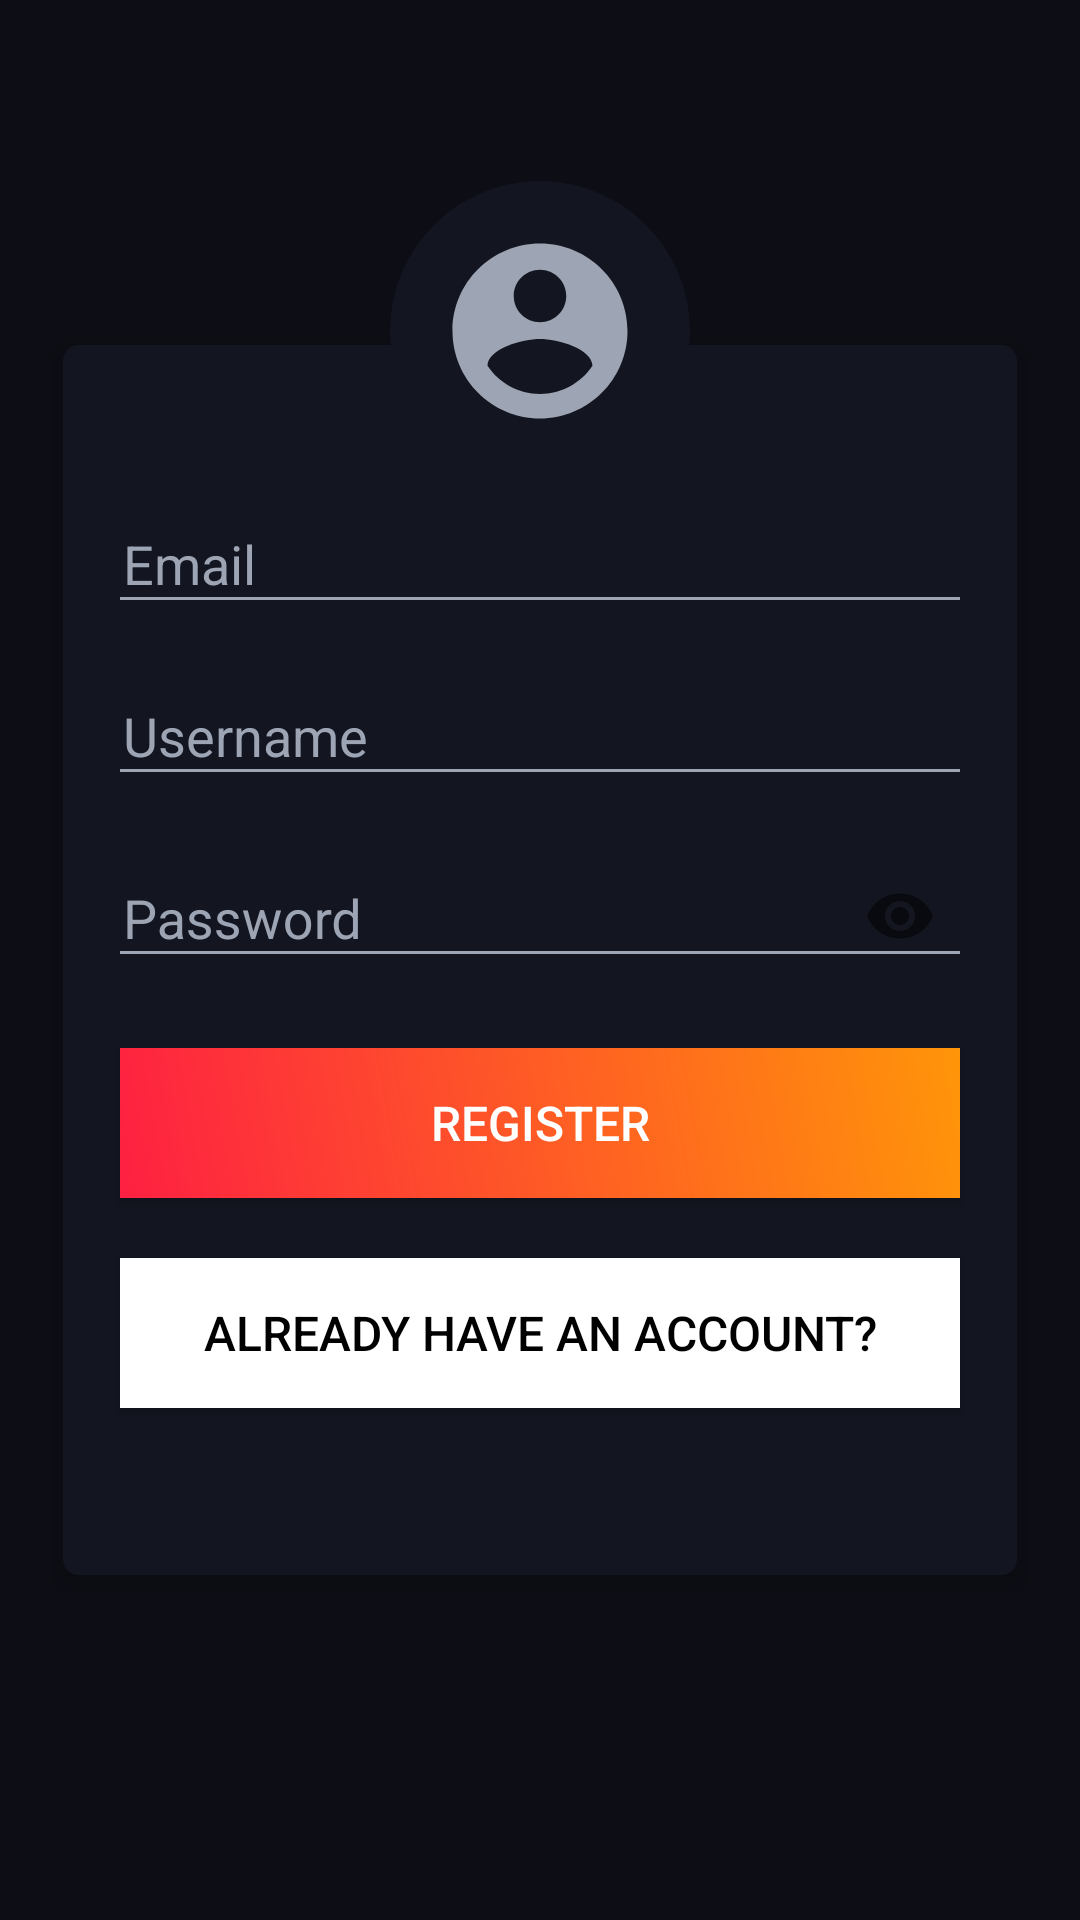

Where to tap for icons on this 1080 × 1920 app screen, as point (x, y):
profile circle: point (540, 331)
